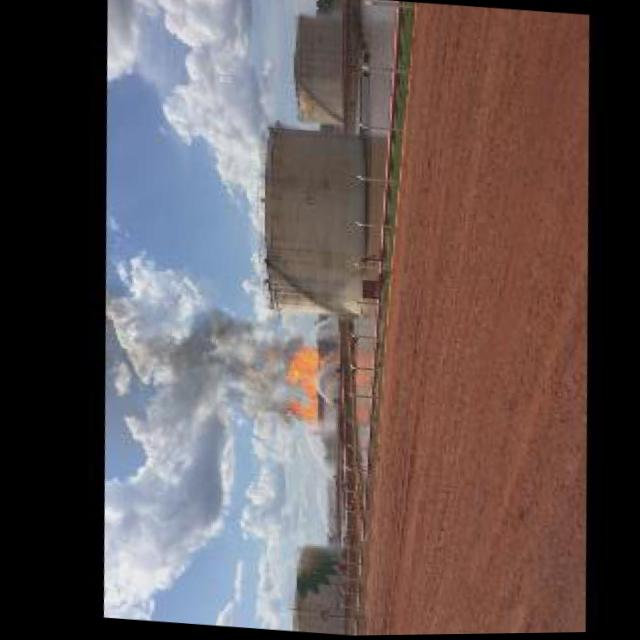Fire: (156, 304, 294, 423), (269, 344, 328, 425)
